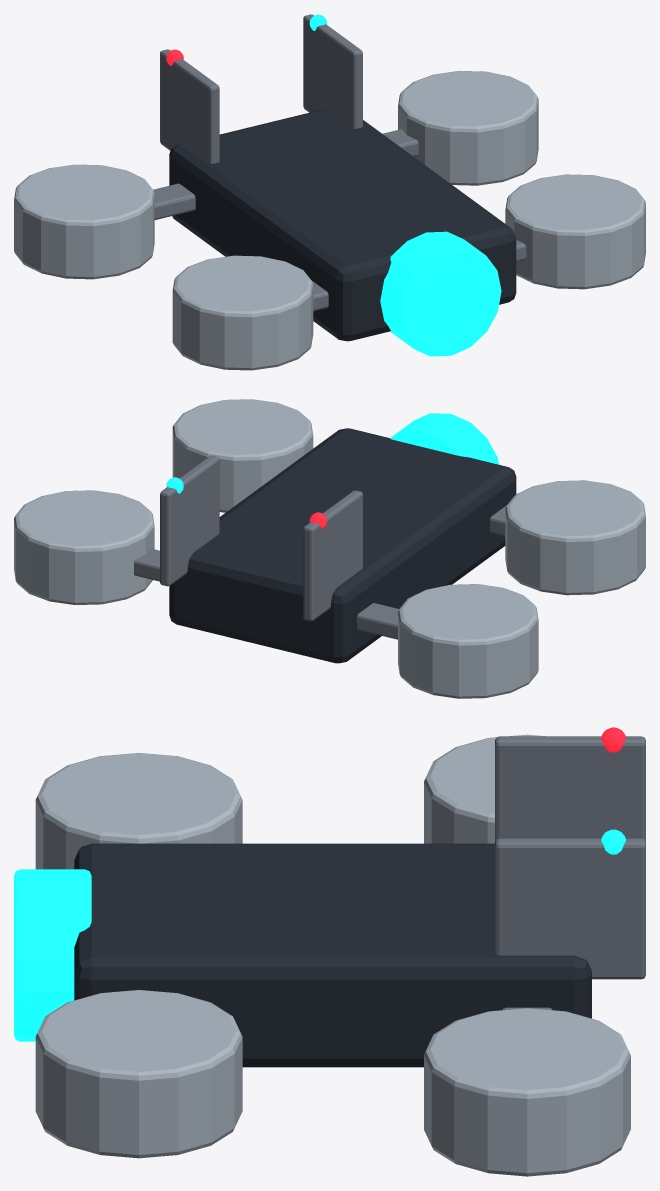
Rendered from patrol_surveillance_drone.glb.
The picture shows the model from 3 angles, top to bottom: view 1: azimuth 30°, elevation 25°; view 2: azimuth 150°, elevation 25°; view 3: azimuth 270°, elevation 25°; orthographic projection. The views are drawn at different scales.
Parts seen in each view (by area): view 1: Drone_Fuselage, NavBeacon_0.28; view 2: Drone_Fuselage, NavBeacon_0.28; view 3: Drone_Fuselage, NavBeacon_0.28.
Boxes of the visible parts, left/top/right/bottom form: Drone_Fuselage: left=14, top=14, right=645, bottom=370; NavBeacon_0.28: left=309, top=14, right=501, bottom=356; Drone_Fuselage: left=14, top=399, right=645, bottom=698; NavBeacon_0.28: left=166, top=413, right=498, bottom=493; Drone_Fuselage: left=35, top=734, right=645, bottom=1176; NavBeacon_0.28: left=14, top=829, right=625, bottom=1041.
Bounding box in the file's own units: 1.98 × 0.65 × 1.46.
3 materials, 3 textured.
